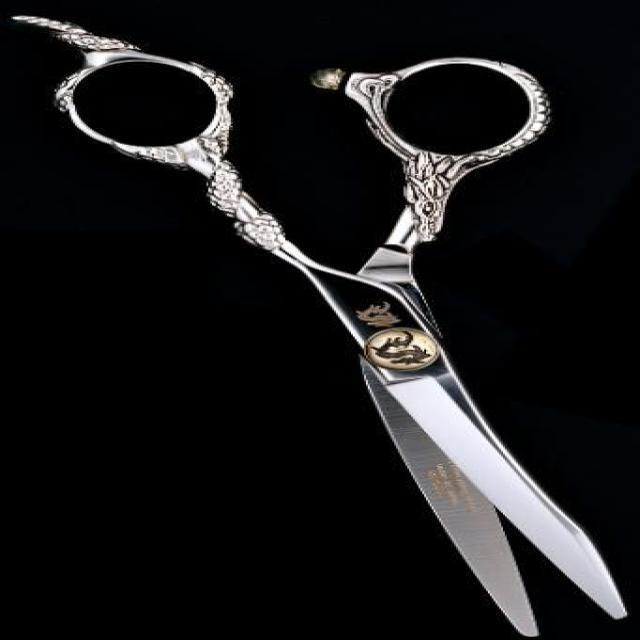scissor: (3, 16, 629, 635)
